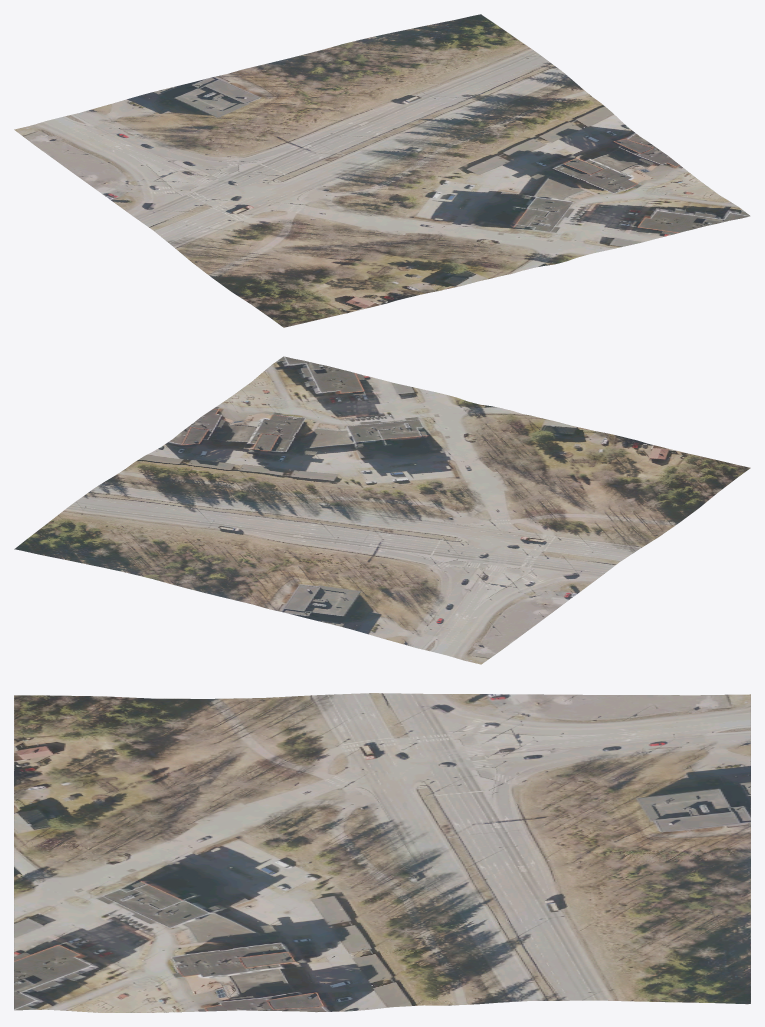
File: CM_Terrain_24490663_6821636.fbx
3 views of the same model, one above another, from view 1: azimuth 30°, elevation 25°; view 2: azimuth 150°, elevation 25°; view 3: azimuth 270°, elevation 25° (orthographic). The views are drawn at different scales.
Visible parts, largest first — view 1: CM_Terrain_24490663_6821636_LOD0; view 2: CM_Terrain_24490663_6821636_LOD0; view 3: CM_Terrain_24490663_6821636_LOD0.
Boxes of the visible parts, left/top/right/bottom form: CM_Terrain_24490663_6821636_LOD0: left=14, top=14, right=750, bottom=327; CM_Terrain_24490663_6821636_LOD0: left=14, top=356, right=750, bottom=664; CM_Terrain_24490663_6821636_LOD0: left=14, top=693, right=750, bottom=1012.
Size of what is drawn, in the model's own units: 205 by 5.74 by 205.
